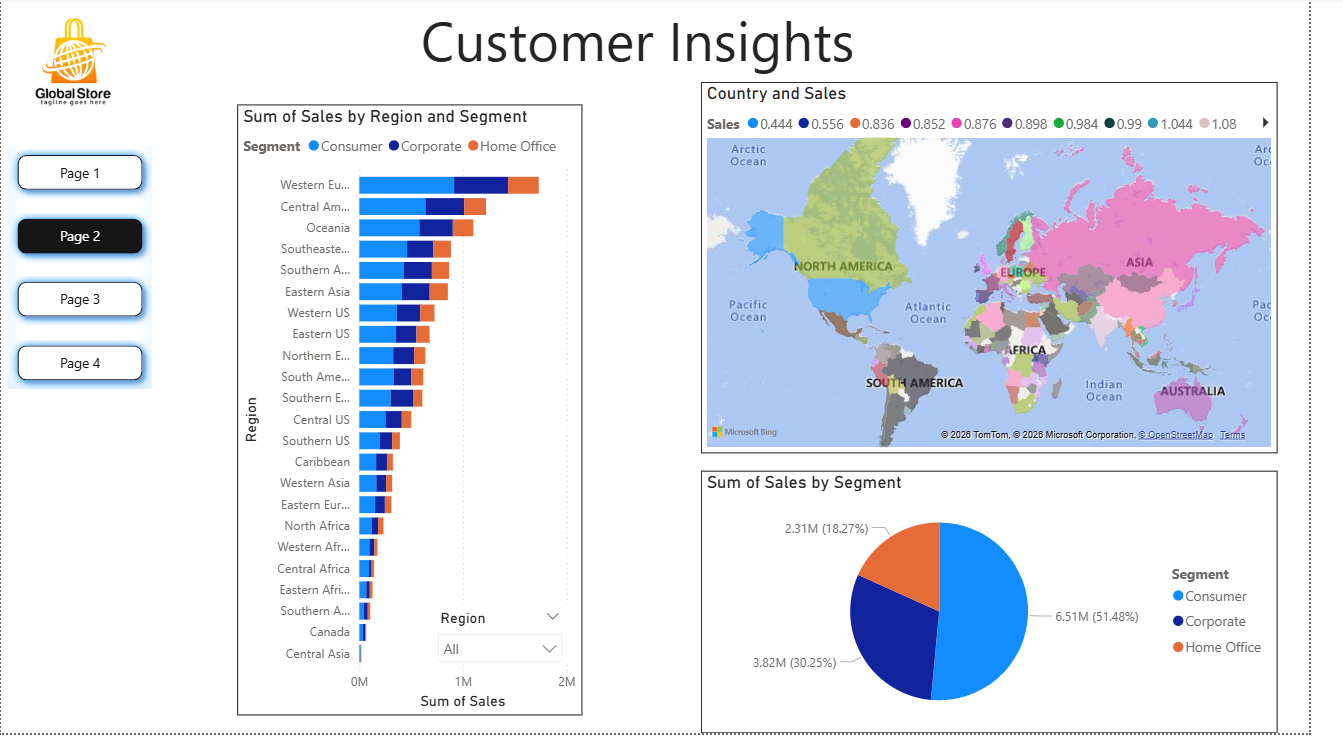

What the dashboard file says about the page in this screenshot:
{"tool":"powerbi","page":{"name":"Page 2","canvas":[1280,720],"ordinal":1},"visuals":[{"type":"textbox","box":[368.1,0,509.9,105.2],"z":0},{"type":"barChart","fields":{"Category":["Orders.Region"],"Y":["Sum(Orders.Sales)"],"Series":["Orders.Segment"]},"box":[231.1,104.8,337.5,598],"z":0,"group":"g1"},{"type":"pieChart","fields":{"Category":["Orders.Segment"],"Y":["Sum(Orders.Sales)"]},"box":[684.8,463.5,563.7,256.8],"z":1000},{"type":"slicer","fields":{"Values":["Orders.Region"]},"box":[416.9,594.2,141.8,57.5],"z":1000,"group":"g1"},{"type":"filledMap","fields":{"Series":["Orders.Sales"],"Category":["Orders.Country"]},"box":[684.8,83.2,563.7,363.2],"z":2000},{"type":"group","id":"g1","title":"Group 1","box":[231.1,104.8,337.5,598],"z":3000},{"type":"pageNavigator","box":[7.3,145.5,140.6,238.5],"z":4000},{"type":"image","box":[7.2,0,126.7,126.7],"z":5000}]}

Visuals, with their boxes in screenshot pixels (x1, y1, x2, y2), scaled from the page's 1280x720 canvas onto the 1343x741 screenshot:
textbox: bbox=[386, 0, 921, 108]
barChart - Orders.Region x Sum(Orders.Sales): bbox=[242, 108, 597, 723]
pieChart - Orders.Segment x Sum(Orders.Sales): bbox=[719, 477, 1310, 740]
slicer - Orders.Region: bbox=[437, 612, 586, 671]
filledMap - Orders.Sales x Orders.Country: bbox=[719, 86, 1310, 459]
"Group 1" group: bbox=[242, 108, 597, 723]
pageNavigator: bbox=[8, 150, 155, 395]
image: bbox=[8, 0, 140, 130]
